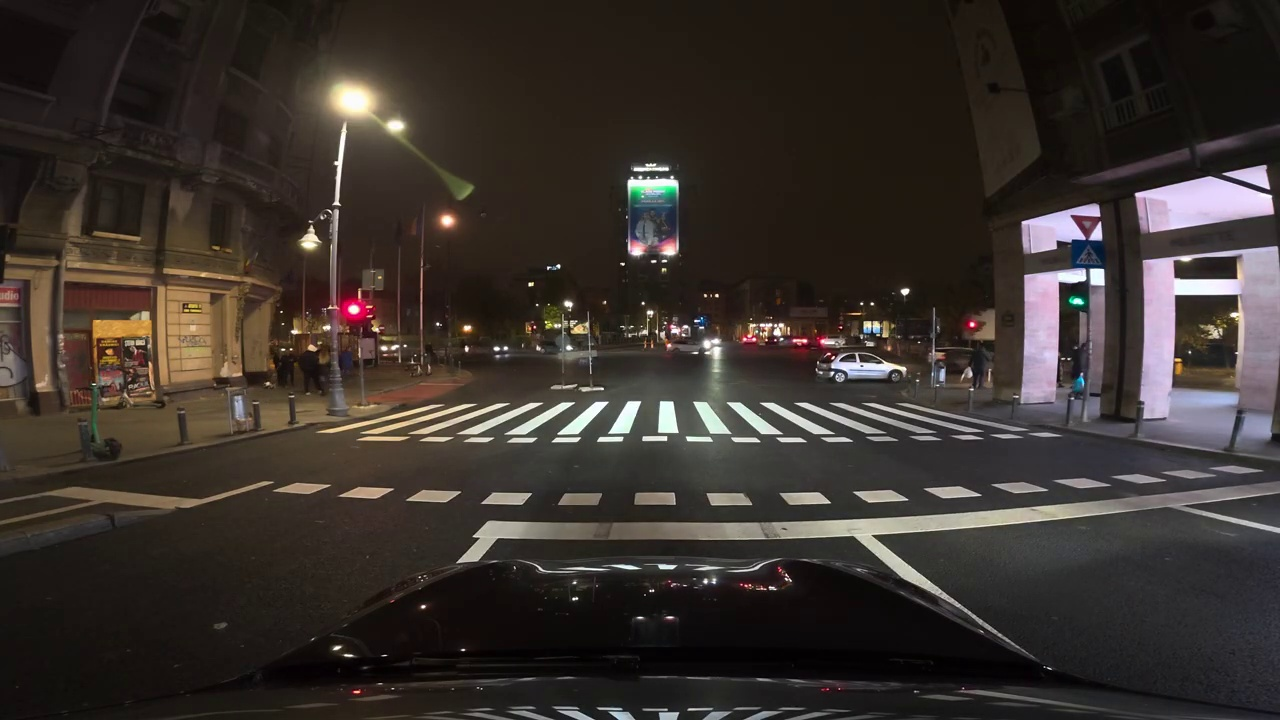acesa: (333, 86, 371, 116), (299, 231, 324, 255), (436, 211, 459, 231), (385, 119, 407, 138), (457, 182, 475, 200), (896, 284, 914, 301)
